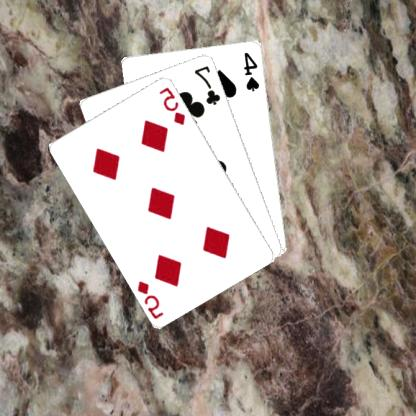4S: (242, 49, 262, 92)
5D: (136, 277, 167, 320), (158, 84, 189, 126)
7C: (194, 63, 224, 106)
